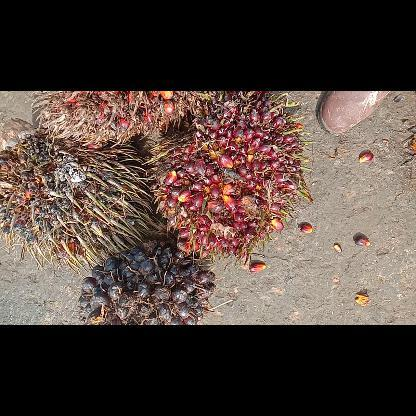TBS abnormal: (0, 121, 154, 266)
TBS masak: (152, 90, 306, 254)
TBS mentah: (77, 244, 212, 324)
Terlalu masak: (34, 91, 210, 141)
